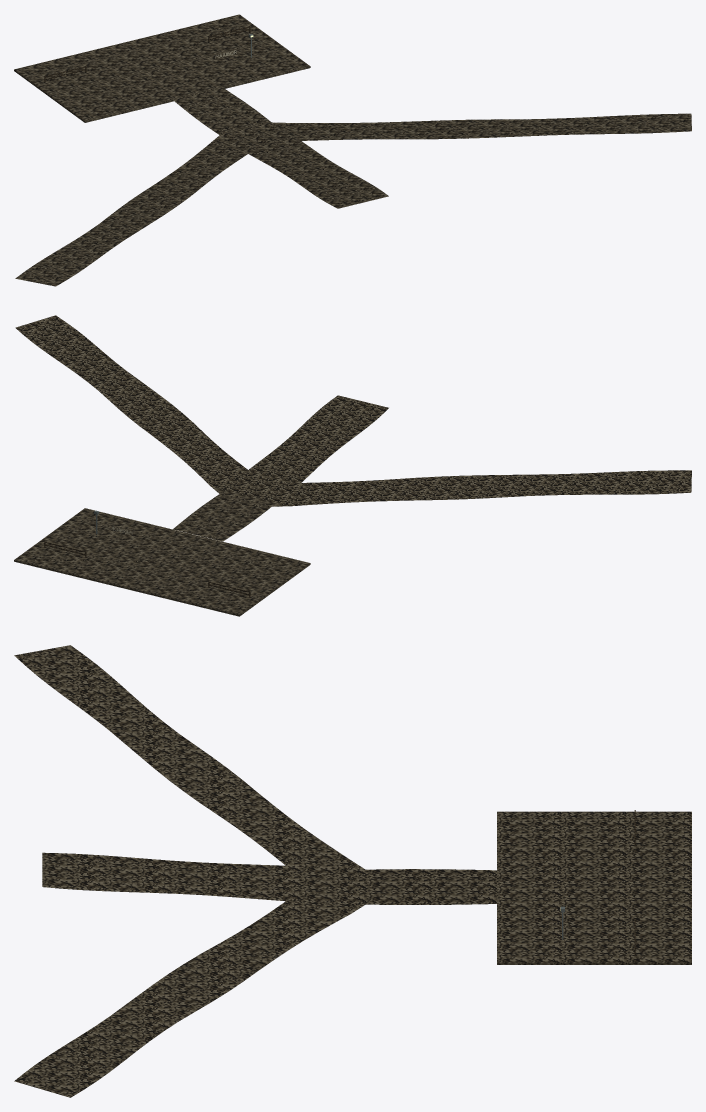
File: PL_Shared_Overlook.fbx
3 views of the same model, one above another, from view 1: azimuth 30°, elevation 25°; view 2: azimuth 150°, elevation 25°; view 3: azimuth 270°, elevation 25° (orthographic). The views are drawn at different scales.
Parts seen in each view (by area): view 1: PL_City_Overlook, PL_Travel_MergeA, PL_Travel_MergeC, PL_Travel_MergeB, PL_Travel_Final; view 2: PL_City_Overlook, PL_Travel_MergeA, PL_Travel_MergeC, PL_Travel_MergeB, PL_Travel_Final; view 3: PL_City_Overlook, PL_Travel_MergeC, PL_Travel_MergeA, PL_Travel_MergeB, PL_Travel_Final.
Part boxes in pixels (<box>): PL_City_Overlook: <box>14,14,310,122</box>; PL_Travel_MergeA: <box>15,128,272,286</box>; PL_Travel_MergeC: <box>251,113,691,141</box>; PL_Travel_MergeB: <box>228,126,388,208</box>; PL_Travel_Final: <box>173,87,276,134</box>; PL_City_Overlook: <box>14,508,310,616</box>; PL_Travel_MergeA: <box>250,470,691,506</box>; PL_Travel_MergeC: <box>15,315,272,501</box>; PL_Travel_MergeB: <box>225,395,388,496</box>; PL_Travel_Final: <box>173,490,271,541</box>; PL_City_Overlook: <box>497,811,691,964</box>; PL_Travel_MergeC: <box>14,878,372,1097</box>; PL_Travel_MergeA: <box>14,645,379,888</box>; PL_Travel_MergeB: <box>42,852,350,903</box>; PL_Travel_Final: <box>351,869,496,904</box>.
Size of the model in its own units: 13192 by 455 by 8349.
5 materials, 2 textured.
